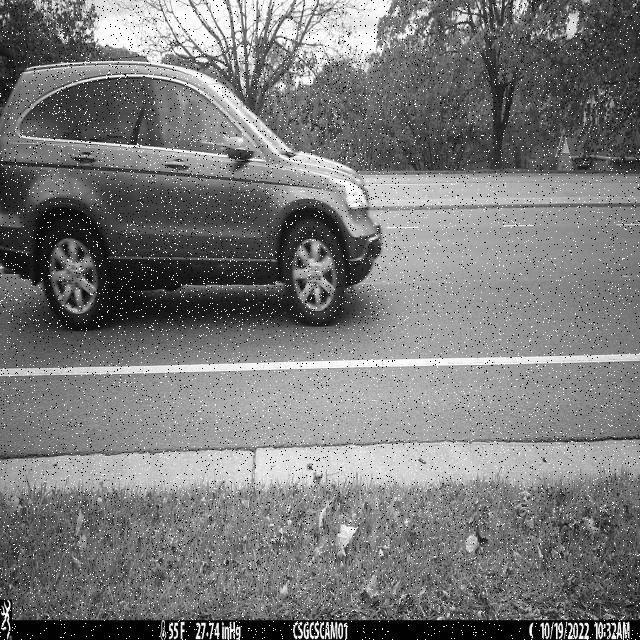SUV: (0, 60, 383, 332)
